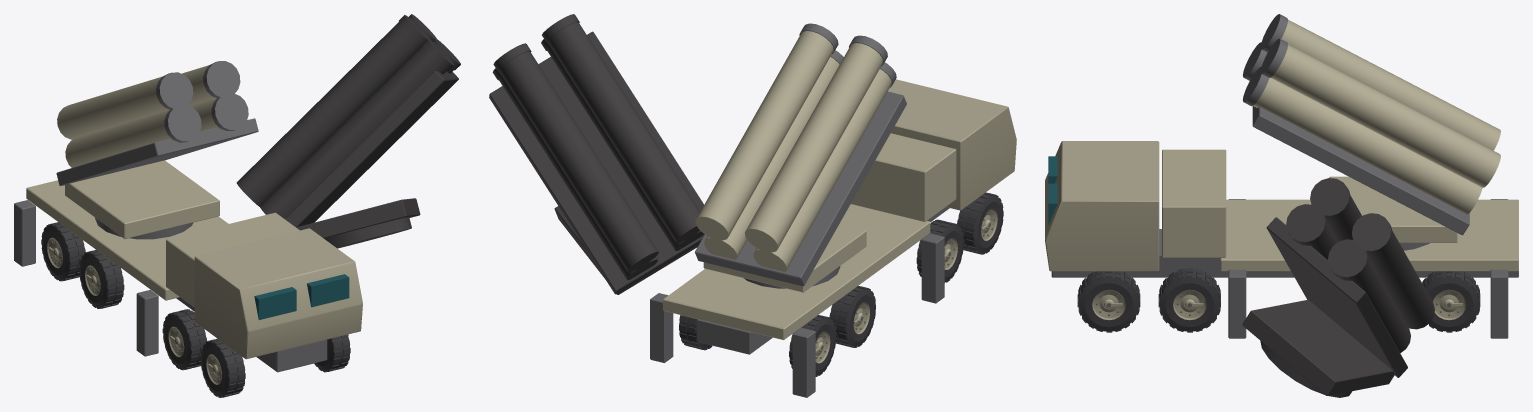
The model's file is samLauncher__hq_9_p.glb.
The picture shows the model from 3 angles, left to right: view 1: azimuth 30°, elevation 25°; view 2: azimuth 150°, elevation 25°; view 3: azimuth 270°, elevation 25°; orthographic projection. The views are drawn at different scales.
Parts seen in each view (by area): view 1: Hull_Mesh, Wreck, Gun_Mesh, Turret_Mesh, Wheel_L1_Mesh, Wheel_L3_Mesh, Wheel_L2_Mesh, Wheel_L0_Mesh, Wheel_R3_Mesh; view 2: Hull_Mesh, Wreck, Gun_Mesh, Turret_Mesh, Wheel_L3_Mesh, Wheel_L1_Mesh, Wheel_L2_Mesh, Wheel_L0_Mesh, Wheel_R0_Mesh; view 3: Hull_Mesh, Gun_Mesh, Wreck, Wheel_R2_Mesh, Wheel_R3_Mesh, Turret_Mesh, Wheel_R0_Mesh.
Boxes of the visible parts, x1,y1,x2,y2 form: Hull_Mesh: (14,180,362,372); Wreck: (103,14,460,372); Gun_Mesh: (56,61,258,185); Turret_Mesh: (65,160,219,239); Wheel_L1_Mesh: (79,250,124,308); Wheel_L3_Mesh: (200,338,245,397); Wheel_L2_Mesh: (162,309,206,370); Wheel_L0_Mesh: (41,222,85,281); Wheel_R3_Mesh: (314,334,350,372); Hull_Mesh: (650,79,1016,397); Wreck: (489,14,983,346); Gun_Mesh: (695,23,906,286); Turret_Mesh: (703,224,866,292); Wheel_L3_Mesh: (957,192,1003,254); Wheel_L1_Mesh: (829,285,875,347); Wheel_L2_Mesh: (916,219,963,282); Wheel_L0_Mesh: (789,315,836,376); Wheel_R0_Mesh: (679,315,712,350); Hull_Mesh: (1045,141,1518,338); Gun_Mesh: (1242,14,1500,235); Wreck: (1089,178,1461,397); Wheel_R2_Mesh: (1158,268,1220,332); Wheel_R3_Mesh: (1077,271,1140,332); Turret_Mesh: (1329,176,1457,250); Wheel_R0_Mesh: (1422,271,1480,332).
Size of what is drawn, in the model's own units: 8.27 by 5.4 by 8.5.
